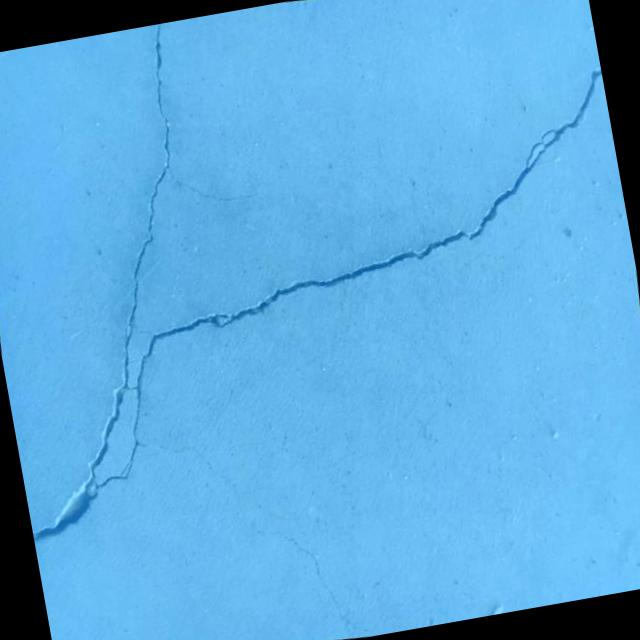crack: (0, 0, 640, 607), (251, 514, 374, 640)
